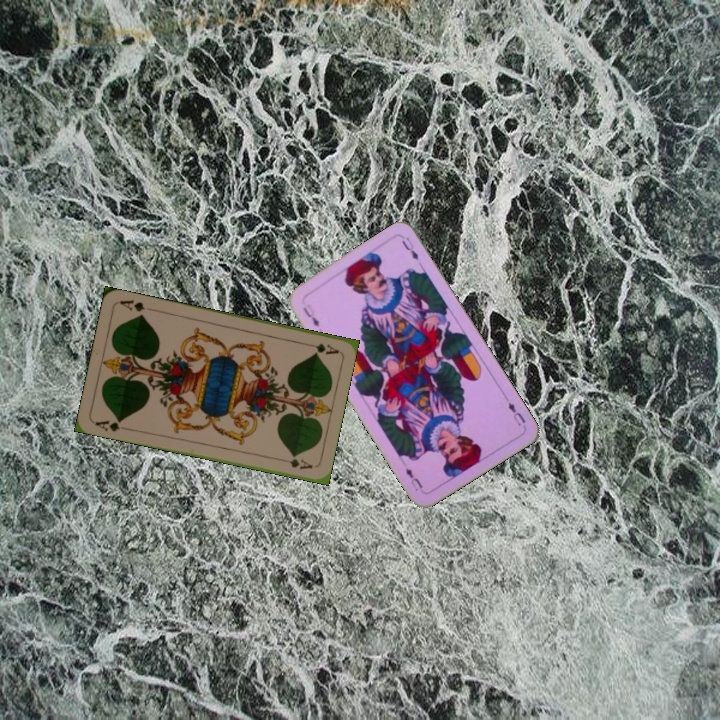EU: (298, 299, 322, 330), (504, 398, 528, 428)
GA: (91, 415, 131, 434), (300, 339, 341, 357)
